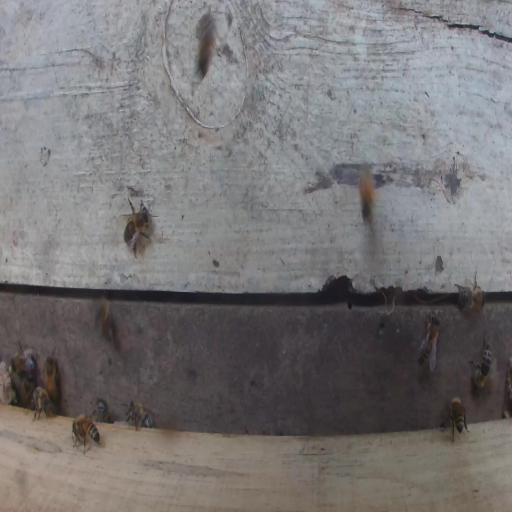bee: (114, 197, 160, 261), (453, 268, 486, 314), (468, 331, 493, 390), (119, 396, 161, 430), (70, 411, 103, 454), (442, 394, 470, 444), (419, 308, 441, 370), (358, 162, 375, 225), (9, 339, 37, 377), (33, 382, 58, 422), (44, 346, 59, 403), (94, 396, 113, 421)
